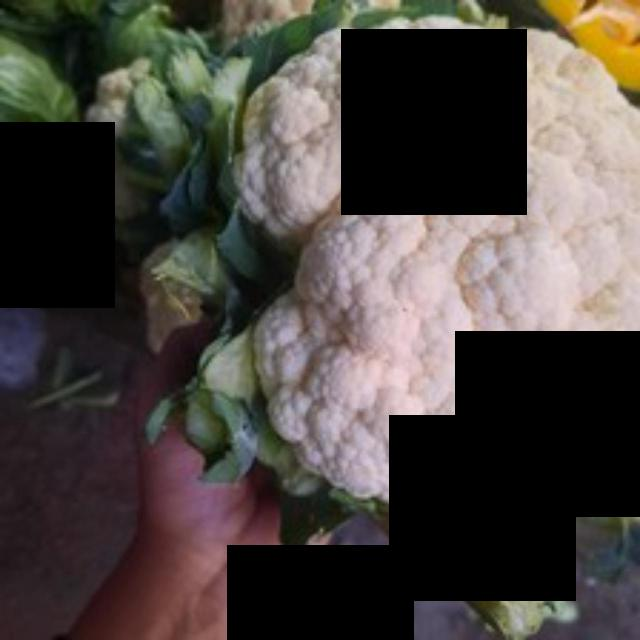cauliflower: (219, 16, 640, 544)
